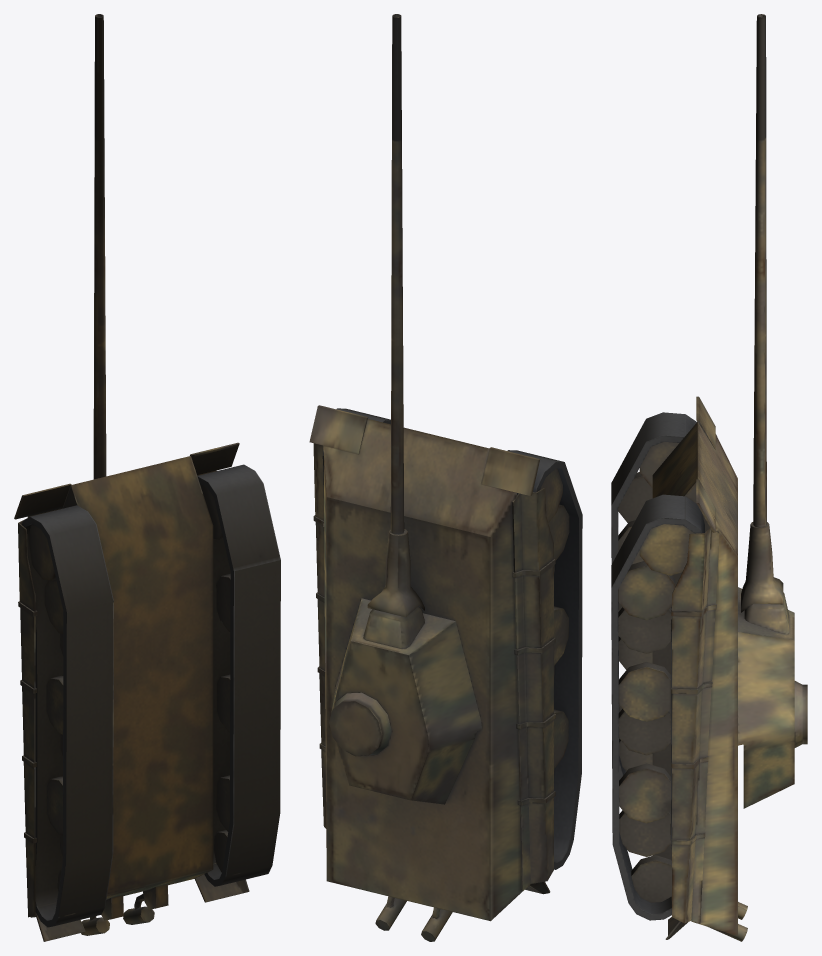
3 renders of one model, left to right at view 1: azimuth 30°, elevation 25°; view 2: azimuth 150°, elevation 25°; view 3: azimuth 270°, elevation 25°, orthographic. The views are drawn at different scales.
Parts seen in each view (by area): view 1: E-50 Body, E-50 Turret; view 2: E-50 Body, E-50 Turret; view 3: E-50 Body, E-50 Turret.
Part boxes in pixels (x1=…): E-50 Body: x1=14, y1=442, x2=280, y2=941; E-50 Turret: x1=93, y1=14, x2=106, y2=479; E-50 Body: x1=309, y1=405, x2=582, y2=941; E-50 Turret: x1=329, y1=14, x2=481, y2=804; E-50 Body: x1=611, y1=396, x2=747, y2=941; E-50 Turret: x1=738, y1=14, x2=807, y2=808.
Size of the model in its own units: 144 by 563 by 110.
